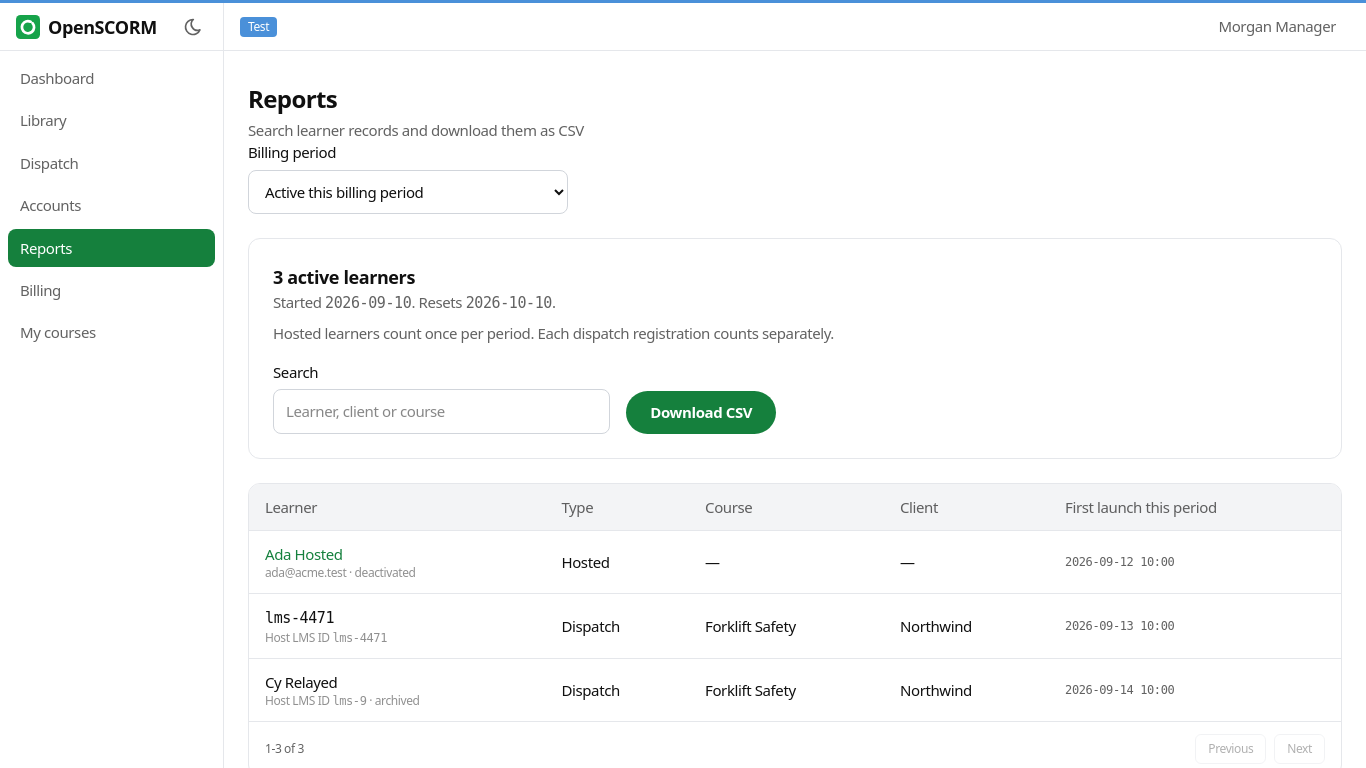
Test: Reports billing period view › says a search found nobody rather than that nobody launched
Check: the text "3 active learners" is shown, box [273,265,415,289]
Type "nobody" into the search field labelled "Search" at [442, 411], box [273,389,610,434]
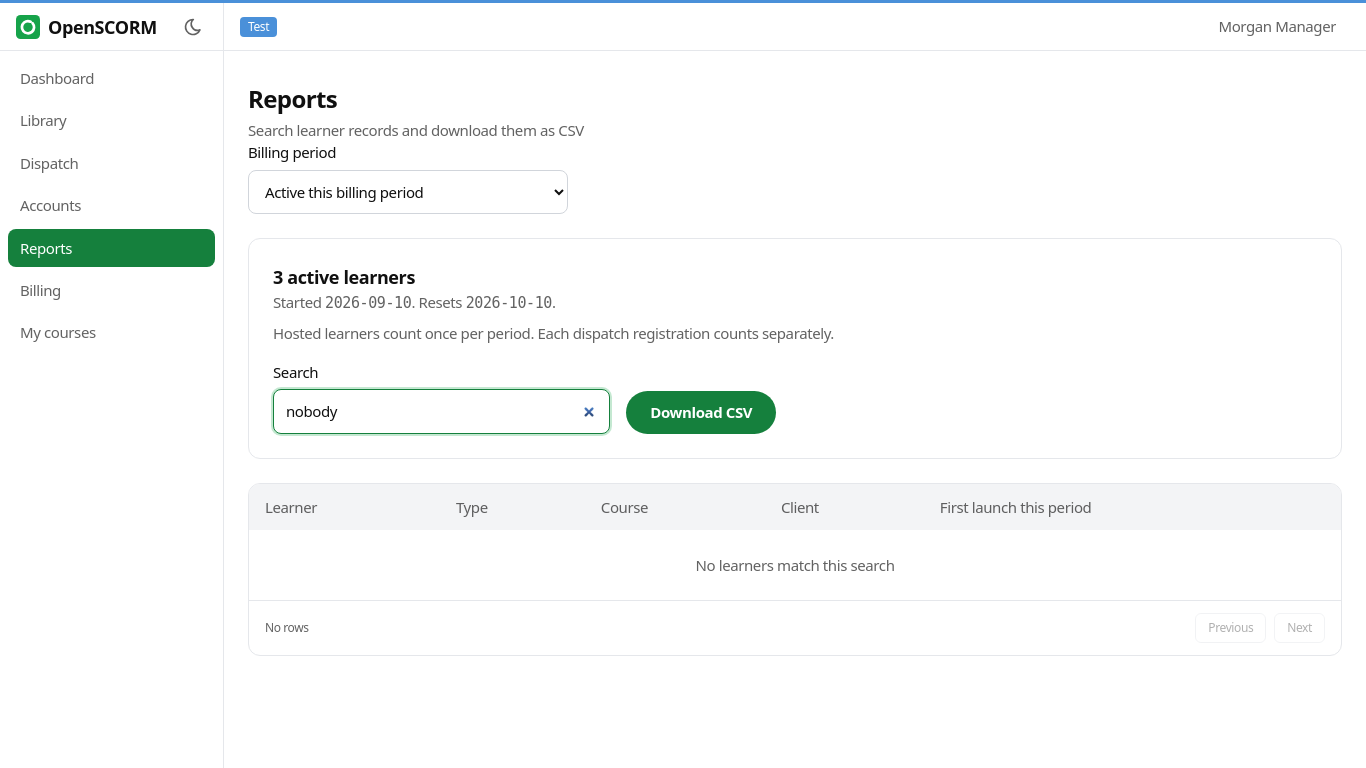
Check: the text "3 active learners" is shown, box [273,265,415,289]
Check: the text "No learners match this search" is shown, box [249,530,1341,600]
